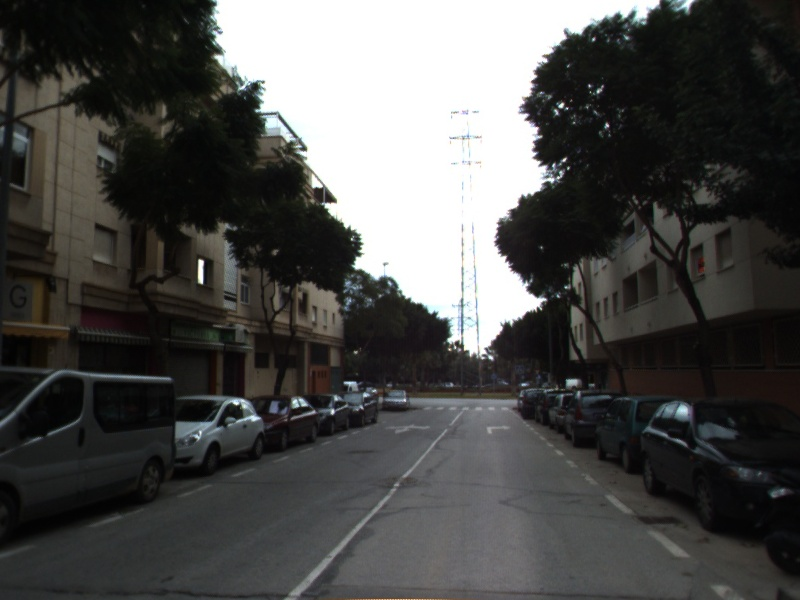RIGHT: (484, 422, 513, 436)
